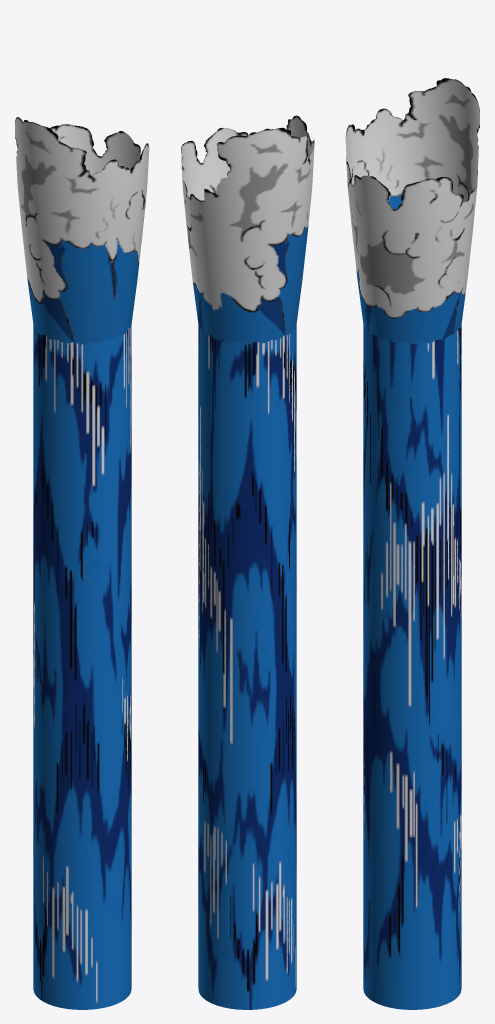
File: Water8_4.fbx
3 views of the same model, side by side, from view 1: azimuth 90°, elevation 25°; view 2: azimuth 150°, elevation 25°; view 3: azimuth 270°, elevation 25° (orthographic).
Parts seen in each view (by area): view 1: SM_e_Skl_Wa_8Tak_Thin002; view 2: SM_e_Skl_Wa_8Tak_Thin002; view 3: SM_e_Skl_Wa_8Tak_Thin002.
Part boxes in pixels (x1,y1,x2,y2): SM_e_Skl_Wa_8Tak_Thin002: (15, 117, 149, 1009); SM_e_Skl_Wa_8Tak_Thin002: (181, 115, 314, 1009); SM_e_Skl_Wa_8Tak_Thin002: (345, 78, 479, 1009).
Size of the model in its own units: 167 by 1263 by 164.
